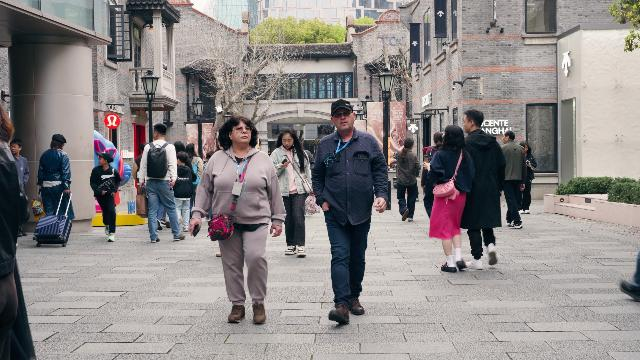person: (311, 99, 389, 326), (0, 97, 37, 360), (424, 125, 476, 272), (460, 109, 506, 271), (269, 126, 314, 257), (137, 124, 186, 243), (36, 134, 76, 221), (89, 150, 121, 242), (499, 129, 527, 229), (393, 138, 421, 222), (8, 139, 30, 237), (421, 132, 445, 217), (132, 142, 149, 192), (307, 150, 314, 167)
